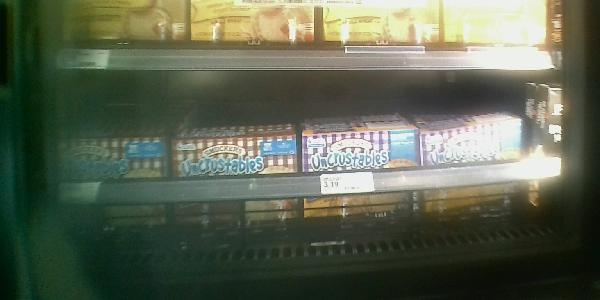icecream: (175, 132, 303, 175), (57, 133, 171, 178), (423, 122, 527, 167), (304, 134, 420, 169)
